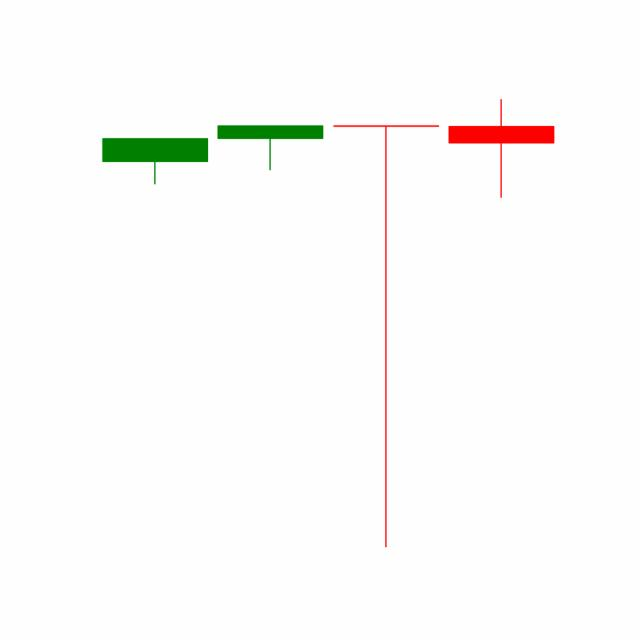Hanging Man: (328, 121, 444, 552)
